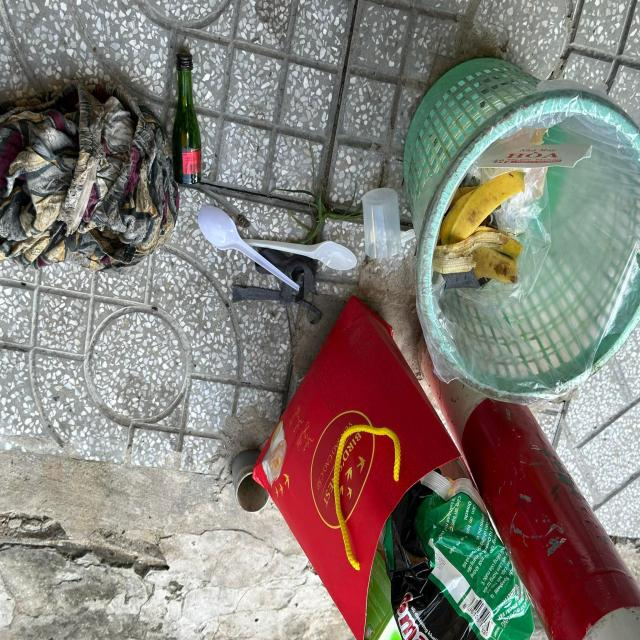bottle: (173, 52, 201, 184)
plastic utensil: (198, 206, 299, 290), (362, 188, 417, 257), (241, 240, 357, 270)
